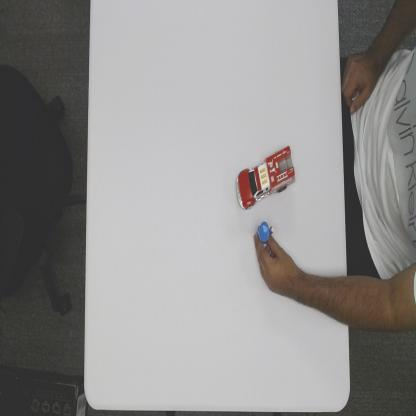Arm: (307, 260, 416, 349)
Firetruck: (234, 142, 296, 214)
Hand: (252, 233, 299, 308)
